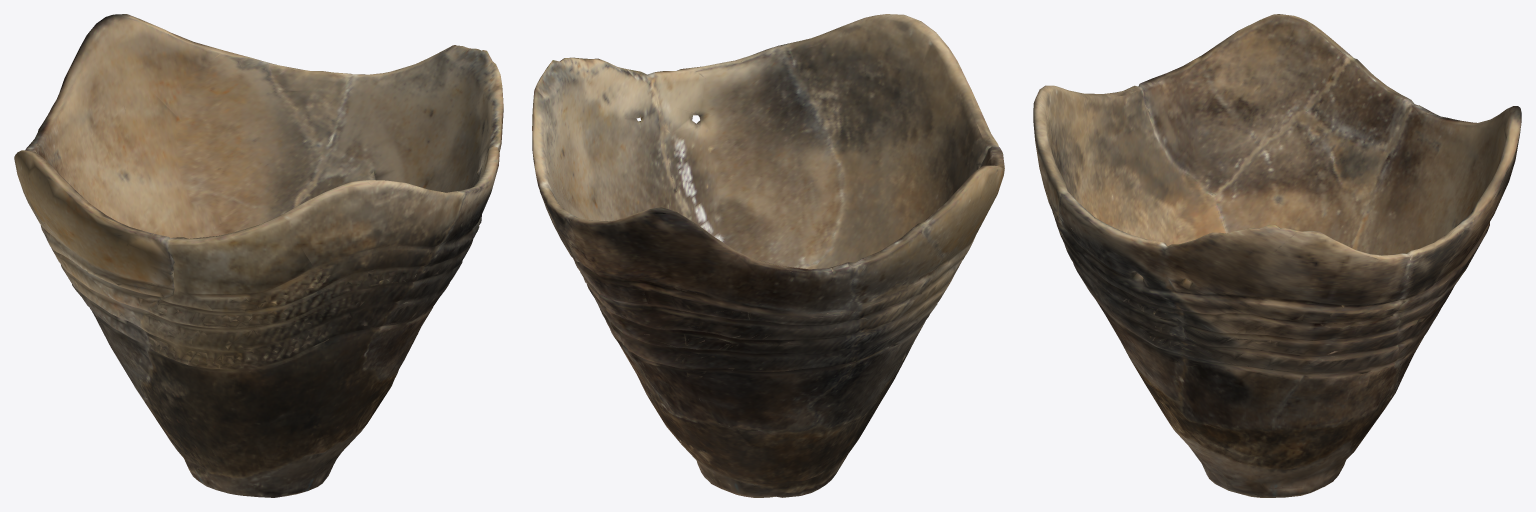
3 renders of one model, left to right at view 1: azimuth 30°, elevation 25°; view 2: azimuth 150°, elevation 25°; view 3: azimuth 270°, elevation 25°, orthographic. The views are drawn at different scales.
Visible parts, largest first — view 1: NM0191_low; view 2: NM0191_low; view 3: NM0191_low.
Part boxes in pixels (<box>): NM0191_low: <box>14,14,503,497</box>; NM0191_low: <box>532,14,1004,497</box>; NM0191_low: <box>1033,14,1521,497</box>.
Bounding box in the file's own units: 242 × 197 × 237.
Materials: 1 (1 with a texture image).
